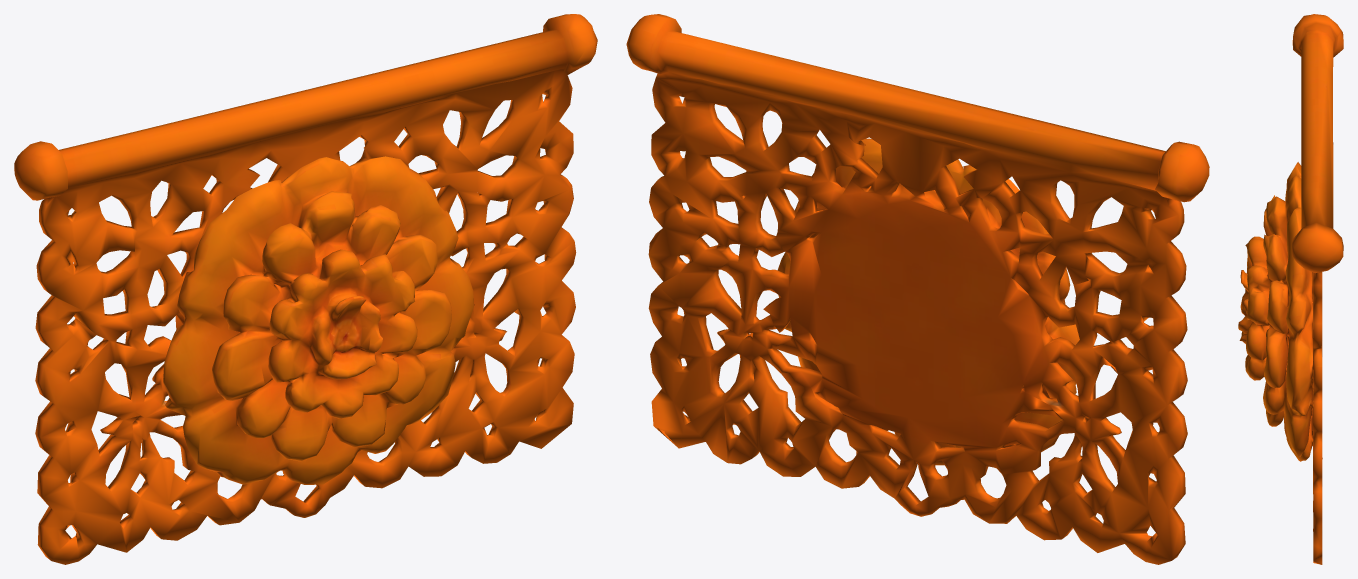
Rendered from papel-picado-cenpasuchil.glb.
3 renders of one model, left to right at view 1: azimuth 30°, elevation 25°; view 2: azimuth 150°, elevation 25°; view 3: azimuth 270°, elevation 25°, orthographic. The views are drawn at different scales.
Visible parts, largest first — view 1: Mesh_0; view 2: Mesh_0; view 3: Mesh_0.
Boxes of the visible parts, x1,y1,x2,y2 form: Mesh_0: (14, 14, 597, 564); Mesh_0: (626, 14, 1209, 564); Mesh_0: (1238, 14, 1343, 564).
Size of the model in its own units: 1.9 by 1.38 by 0.3674.
1 material, 1 textured.
